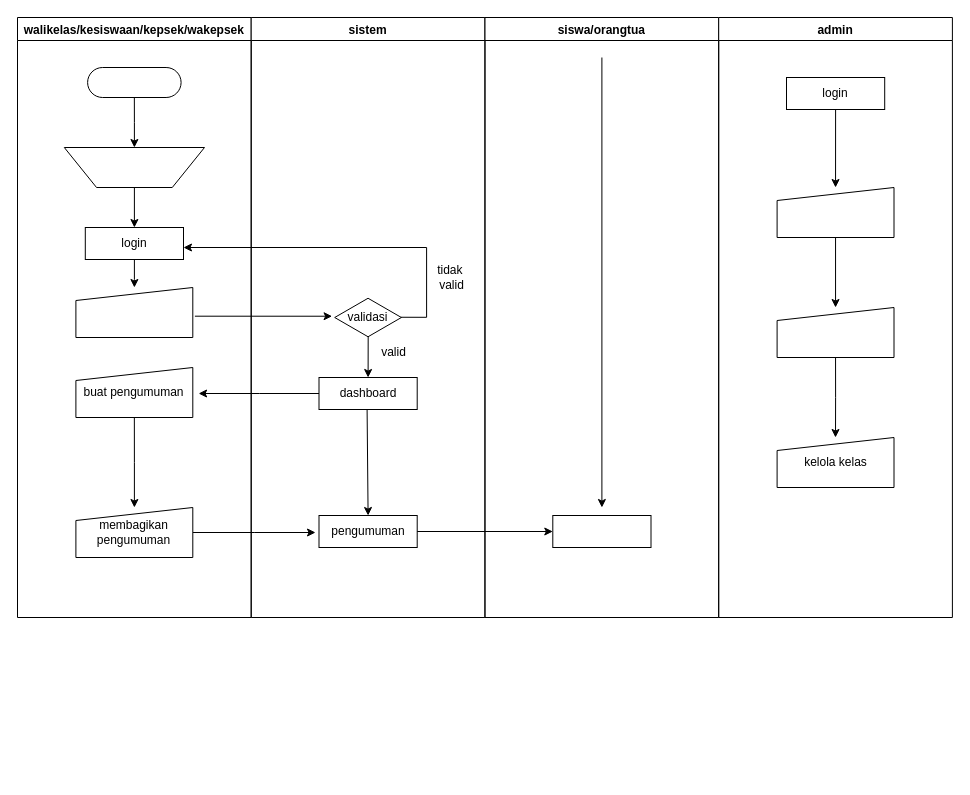
Some shapes in this 970 by 795 pixel diagram are drawn without their labels. The centre of each missing label's shape, as x and y in pixels:
buka sistem: point 133,167
input usn pass: point 134,312
kelola jurusan: point 835,332
kelola user: point 835,212
mulai: point 134,82
terima pengumuman: point 601,531
